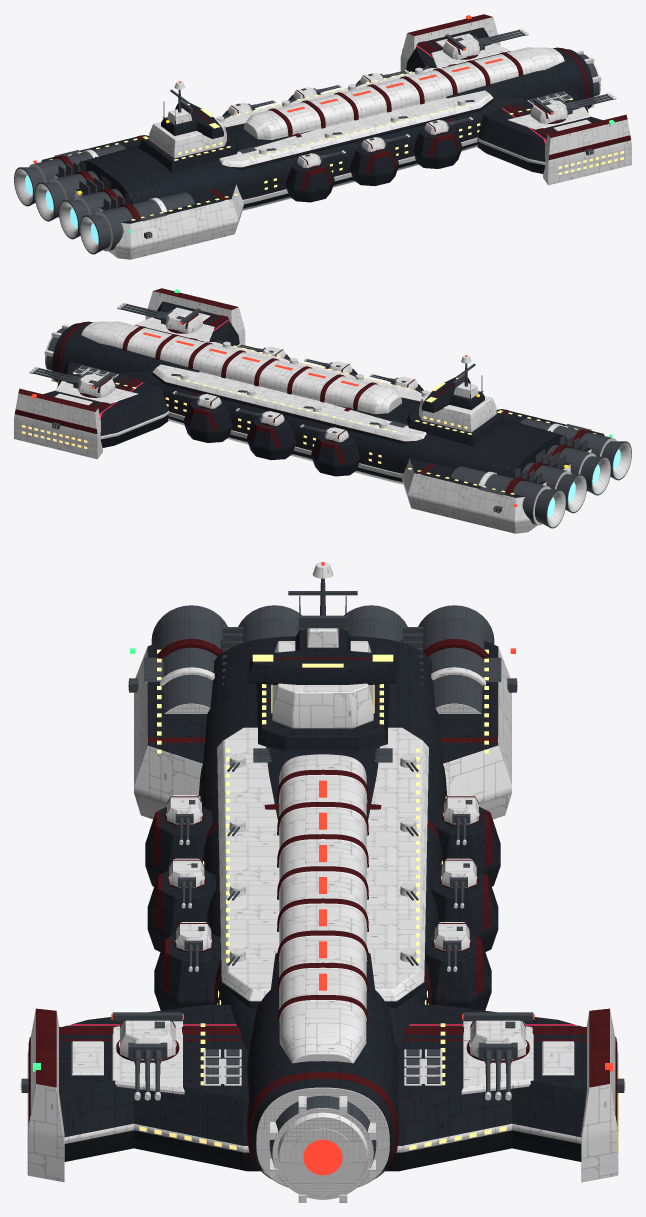
Rendered from colossus_production_v1.glb.
3 renders of one model, top to bottom at view 1: azimuth 30°, elevation 25°; view 2: azimuth 150°, elevation 25°; view 3: azimuth 270°, elevation 25°, orthographic. The views are drawn at different scales.
Parts seen in each view (by area): view 1: LOD0_Armor, LOD0_Hull, LOD0_Mechanical, LOD0_Livery, LOD0_MechanicalDark, LOD0_Lights_Warm, LOD0_HOOK_ARMOR_PORT_Armor, LOD0_HOOK_DRIVE_CORE, LOD0_HOOK_NAV_PORT; view 2: LOD0_Armor, LOD0_Hull, LOD0_Mechanical, LOD0_Livery, LOD0_MechanicalDark, LOD0_Lights_Warm, LOD0_HOOK_ARMOR_PORT_Armor, LOD0_HOOK_DRIVE_CORE, LOD0_HOOK_NAV_PORT; view 3: LOD0_Hull, LOD0_Armor, LOD0_Mechanical, LOD0_Livery, LOD0_MechanicalDark, LOD0_Lights_Warm, LOD0_HOOK_ARMOR_PORT_Armor, LOD0_HOOK_NAV_PORT, LOD0_HOOK_SENSOR_MAST_Mechanical.
Boxes of the visible parts, <box> form: LOD0_Armor: <box>54,17,631,259</box>; LOD0_Hull: <box>41,27,602,223</box>; LOD0_Mechanical: <box>14,30,612,254</box>; LOD0_Livery: <box>53,14,630,219</box>; LOD0_MechanicalDark: <box>14,28,616,253</box>; LOD0_Lights_Warm: <box>49,71,623,220</box>; LOD0_HOOK_ARMOR_PORT_Armor: <box>431,43,511,67</box>; LOD0_HOOK_DRIVE_CORE: <box>25,175,98,243</box>; LOD0_HOOK_NAV_PORT: <box>33,15,553,163</box>; LOD0_Armor: <box>14,291,591,533</box>; LOD0_Hull: <box>43,301,604,497</box>; LOD0_Mechanical: <box>33,304,631,528</box>; LOD0_Livery: <box>15,288,592,493</box>; LOD0_MechanicalDark: <box>29,302,631,527</box>; LOD0_Lights_Warm: <box>22,345,596,494</box>; LOD0_HOOK_ARMOR_PORT_Armor: <box>56,381,137,403</box>; LOD0_HOOK_DRIVE_CORE: <box>547,449,620,517</box>; LOD0_HOOK_NAV_PORT: <box>31,322,517,506</box>; LOD0_Hull: <box>59,629,586,1171</box>; LOD0_Armor: <box>27,628,618,1202</box>; LOD0_Mechanical: <box>21,596,624,1163</box>; LOD0_Livery: <box>28,638,617,1178</box>; LOD0_MechanicalDark: <box>20,681,625,1199</box>; LOD0_Lights_Warm: <box>27,649,618,1151</box>; LOD0_HOOK_ARMOR_PORT_Armor: <box>461,1020,533,1094</box>; LOD0_HOOK_NAV_PORT: <box>111,648,612,1175</box>; LOD0_HOOK_SENSOR_MAST_Mechanical: <box>288,578,357,628</box>.
Size of what is drawn, in the model's own units: 53.5 by 12.07 by 26.22.
11 materials, 5 textured.
